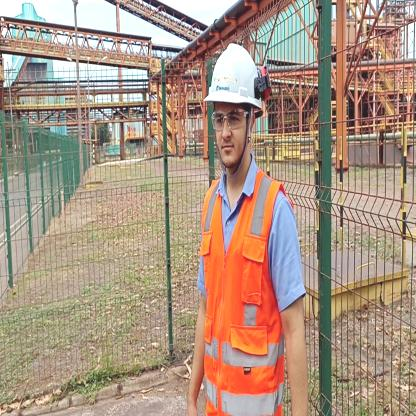Capacete: (204, 39, 265, 106)
colete: (198, 180, 286, 412)
